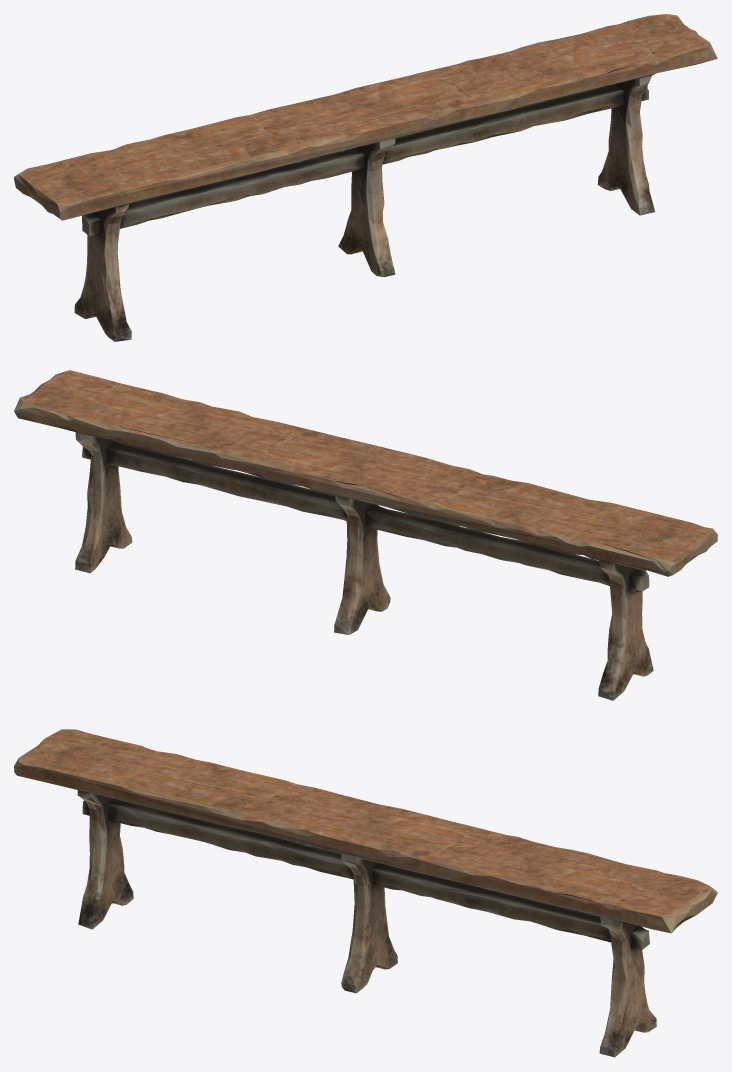
Rendered from tavern_bench.glb.
3 views of the same model, one above another, from view 1: azimuth 30°, elevation 25°; view 2: azimuth 150°, elevation 25°; view 3: azimuth 330°, elevation 25° (orthographic).
Parts seen in each view (by area): view 1: defaultMaterial; view 2: defaultMaterial; view 3: defaultMaterial.
Part boxes in pixels (x1,y1,x2,y2): defaultMaterial: (14,14,717,341); defaultMaterial: (14,370,717,700); defaultMaterial: (14,729,717,1057).
Bounding box in the file's own units: 1.08 × 0.245 × 0.1386.
Materials: 1 (1 with a texture image).
